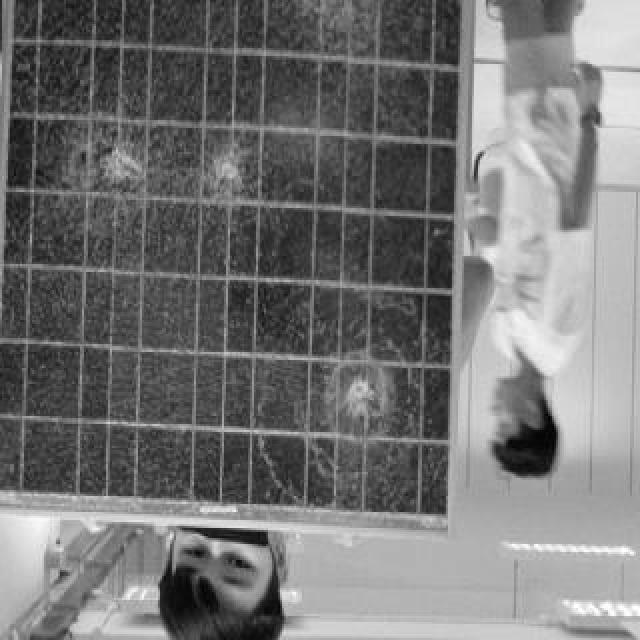Physical-damage: (318, 336, 402, 444), (72, 126, 173, 206), (202, 126, 257, 203)
